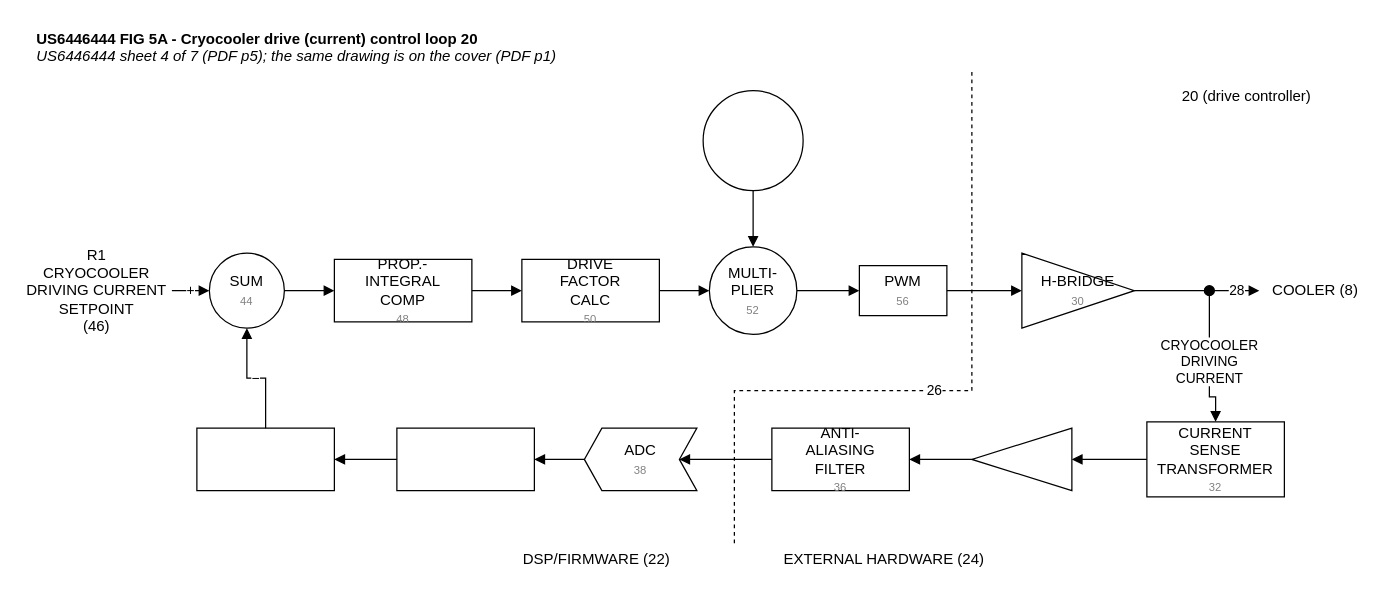
The diagram is 1393 pixels wide and 593 high, and some of its shapes have lost their labels. Each missing label, with the centre of its shape:
8:1 TIME DECIMATION 42: (x=265, y=459)
BUFFER 34: (x=1021, y=459)
RMS CURRENT CALC 40: (x=465, y=459)
SINE WAVE GENERATION 54: (x=752, y=140)
